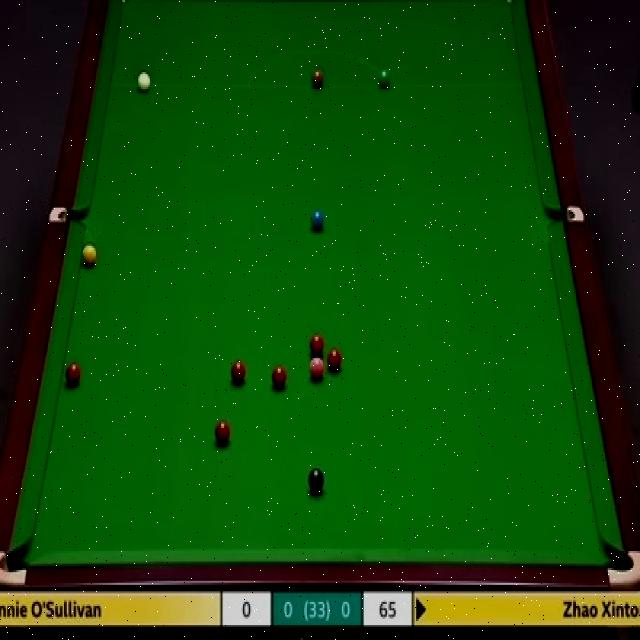black-ball: (307, 468, 325, 493)
blue-ball: (310, 207, 324, 234)
brown-ball: (311, 65, 323, 87)
green-ball: (378, 70, 389, 89)
pink-ball: (309, 356, 324, 380)
red-ball: (63, 362, 84, 388), (214, 420, 231, 446), (326, 348, 342, 375), (229, 361, 247, 383), (272, 365, 287, 390), (309, 335, 325, 356)
white-ball: (137, 70, 151, 95)
yellow-ball: (80, 244, 96, 265)
